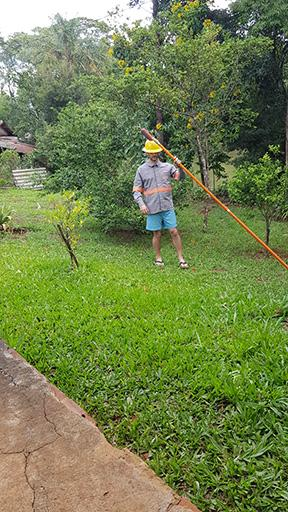Detector_Tensao_Contato: (135, 123, 156, 142)
Vara_Manobra: (154, 138, 288, 267)
